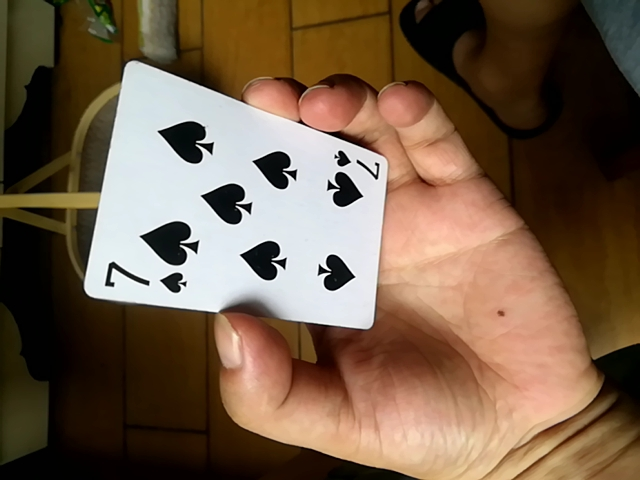ht 7: (84, 57, 393, 338)
